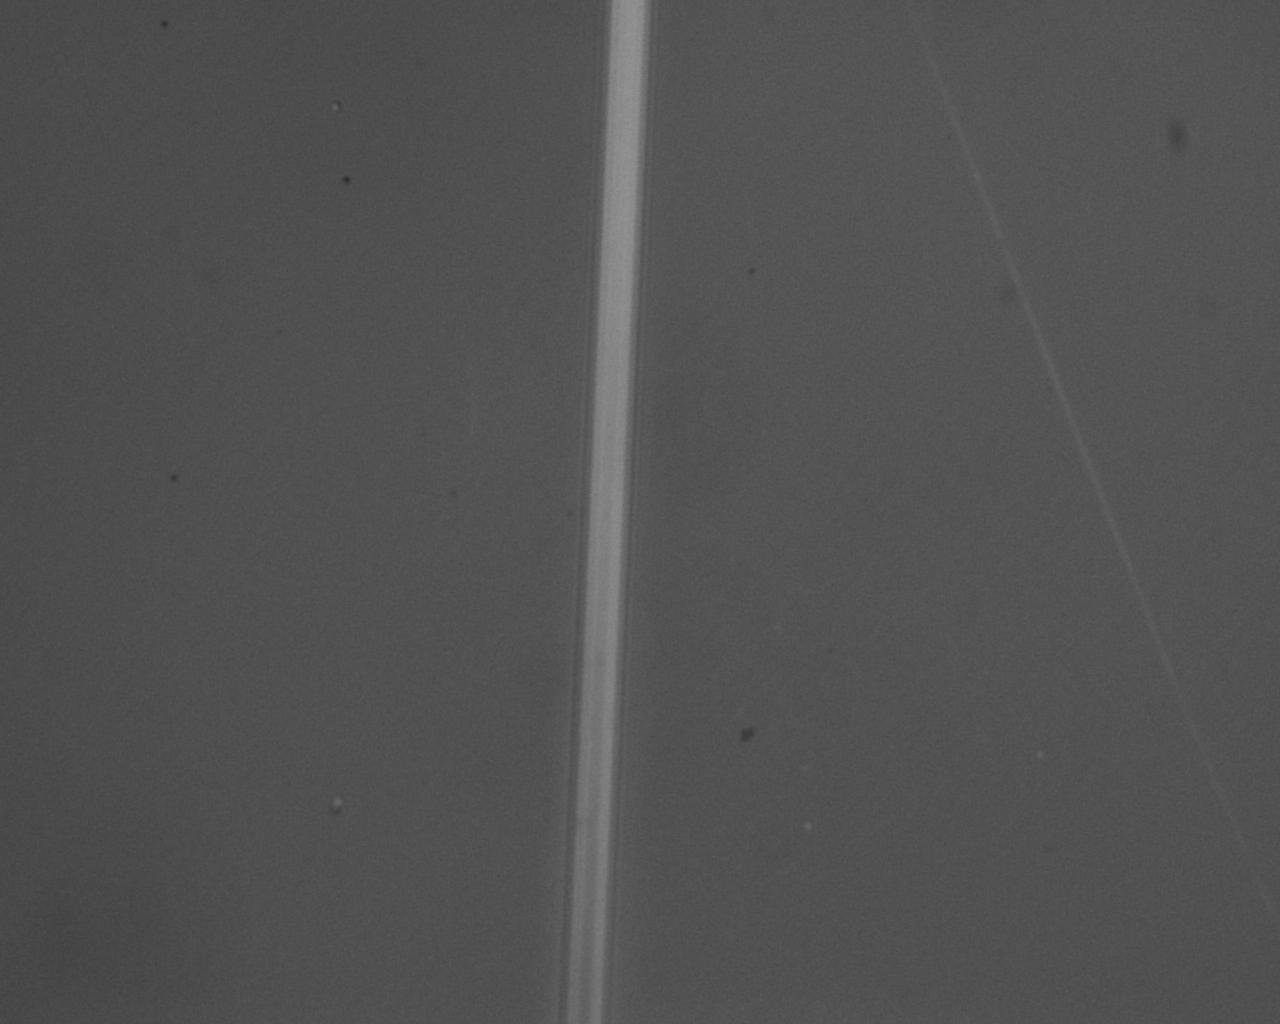fiber: (128, 59, 1152, 719)
